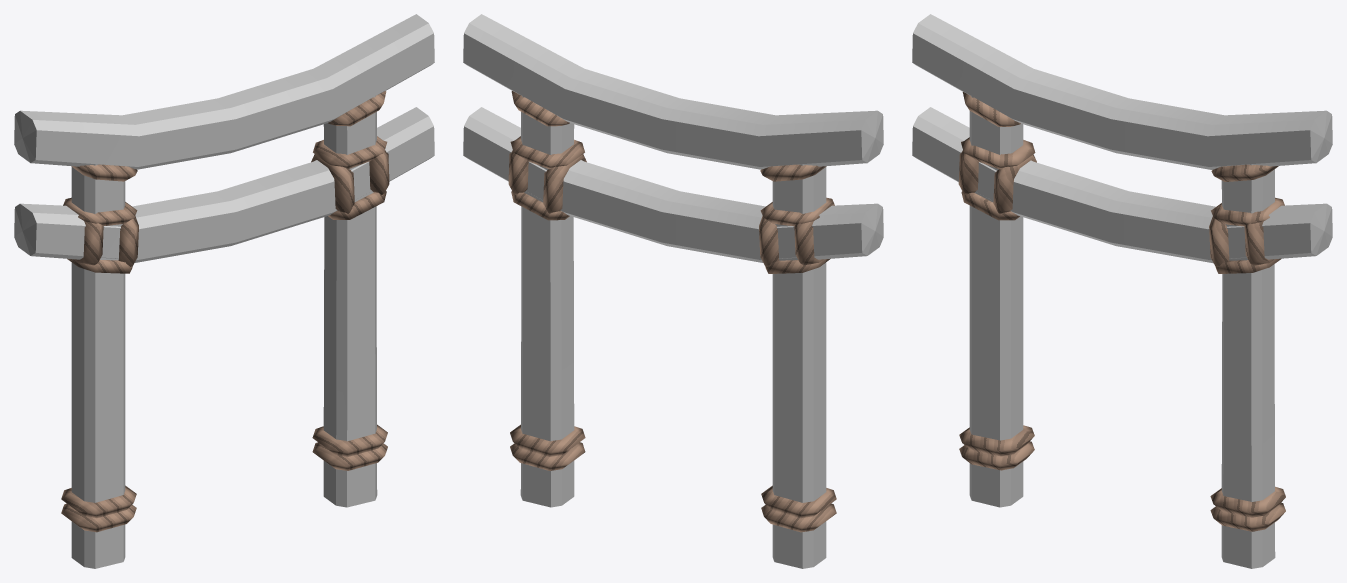
Rendered from Wood7.fbx.
3 renders of one model, left to right at view 1: azimuth 30°, elevation 25°; view 2: azimuth 150°, elevation 25°; view 3: azimuth 330°, elevation 25°, orthographic.
Visible parts, largest first — view 1: Wood7; view 2: Wood7; view 3: Wood7.
Boxes of the visible parts, left/top/right/bottom form: Wood7: left=14, top=14, right=434, bottom=568; Wood7: left=463, top=14, right=883, bottom=568; Wood7: left=912, top=14, right=1332, bottom=568.
Bounding box in the file's own units: 186 × 204 × 26.42.
